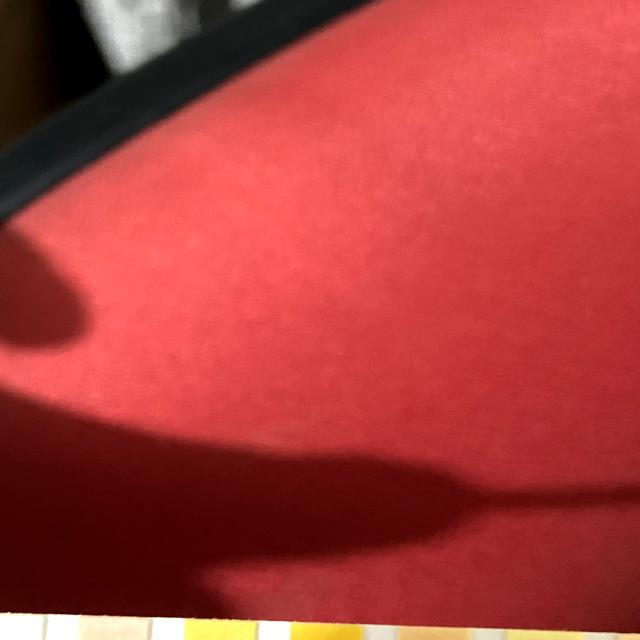Bilirubin: (0, 614, 41, 640)
Blood: (291, 624, 359, 640)
Ketone: (79, 617, 147, 640)
SpGravity: (185, 620, 256, 640)
pH: (396, 628, 466, 640)
